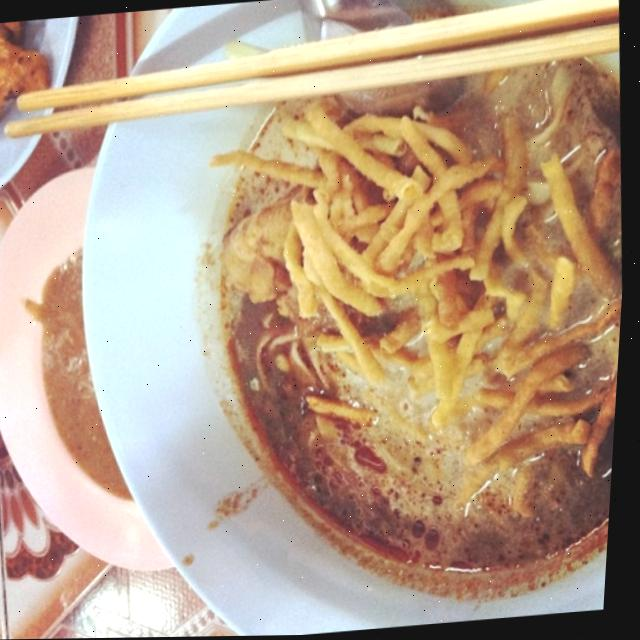面条主食: (105, 0, 640, 625)
